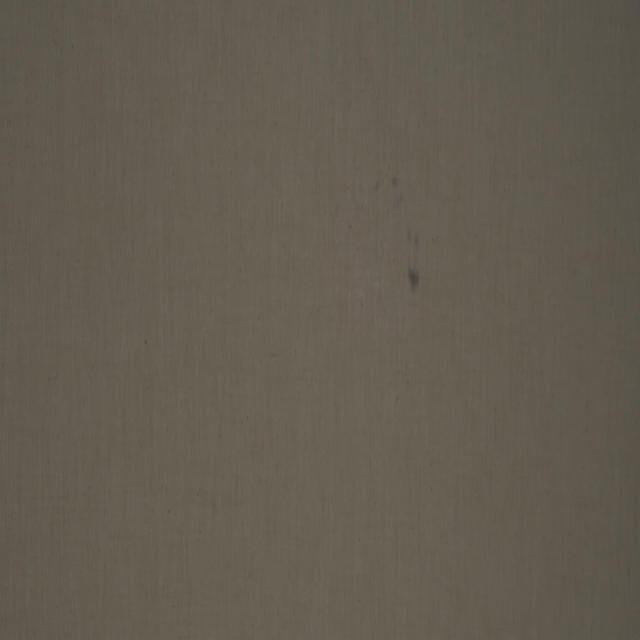dirty: (408, 268, 420, 294), (414, 231, 420, 248), (392, 178, 399, 190), (407, 228, 412, 242), (376, 182, 382, 191)
